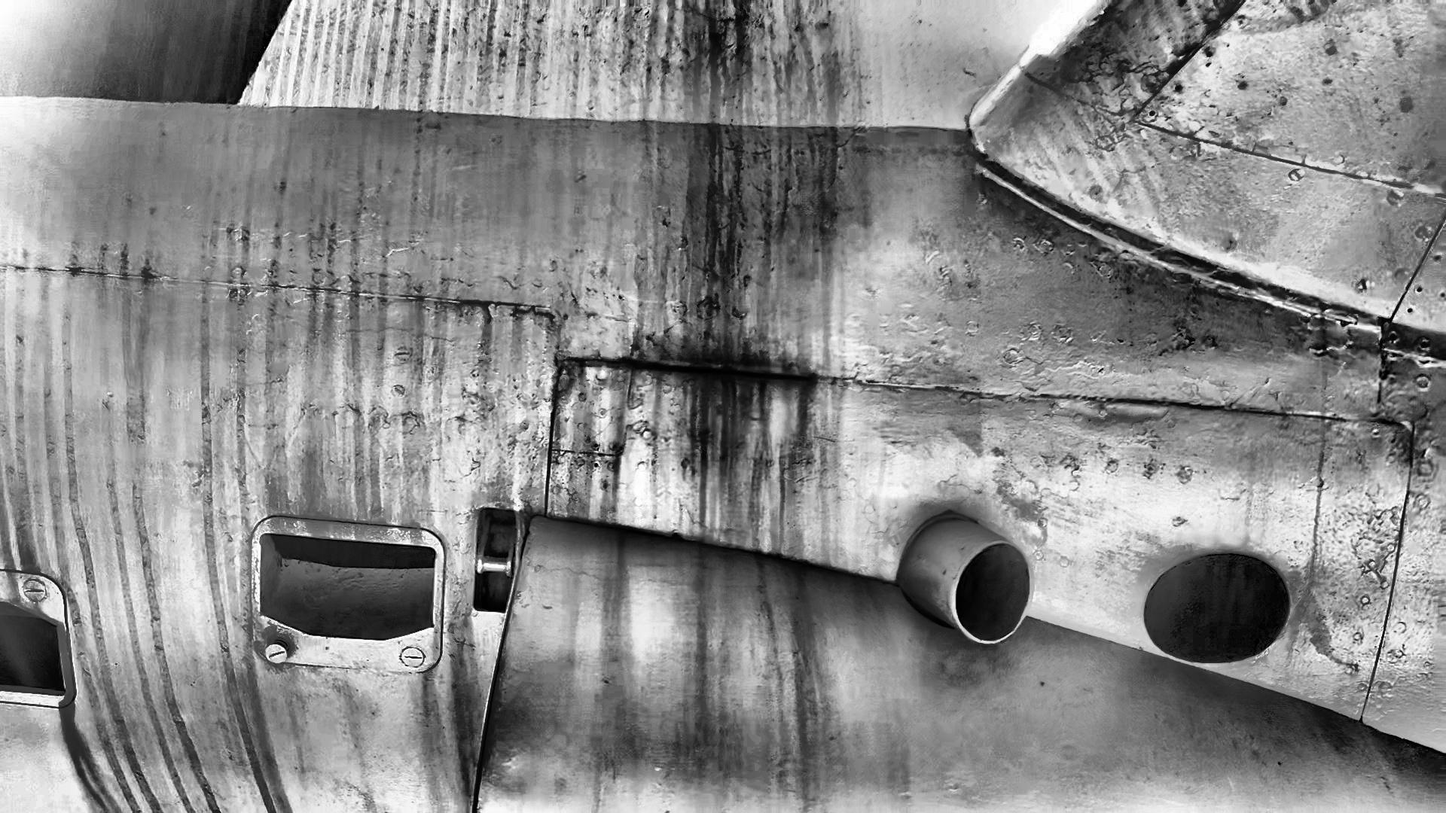crack: (483, 303, 493, 325)
dent: (1097, 399, 1170, 419)
missing-head: (1405, 306, 1415, 314), (1174, 84, 1183, 92), (1147, 110, 1157, 117), (1415, 286, 1423, 293), (1434, 255, 1442, 262), (593, 462, 599, 469), (593, 443, 599, 449)
paint-peel-off: (508, 305, 556, 324), (557, 366, 571, 393)
